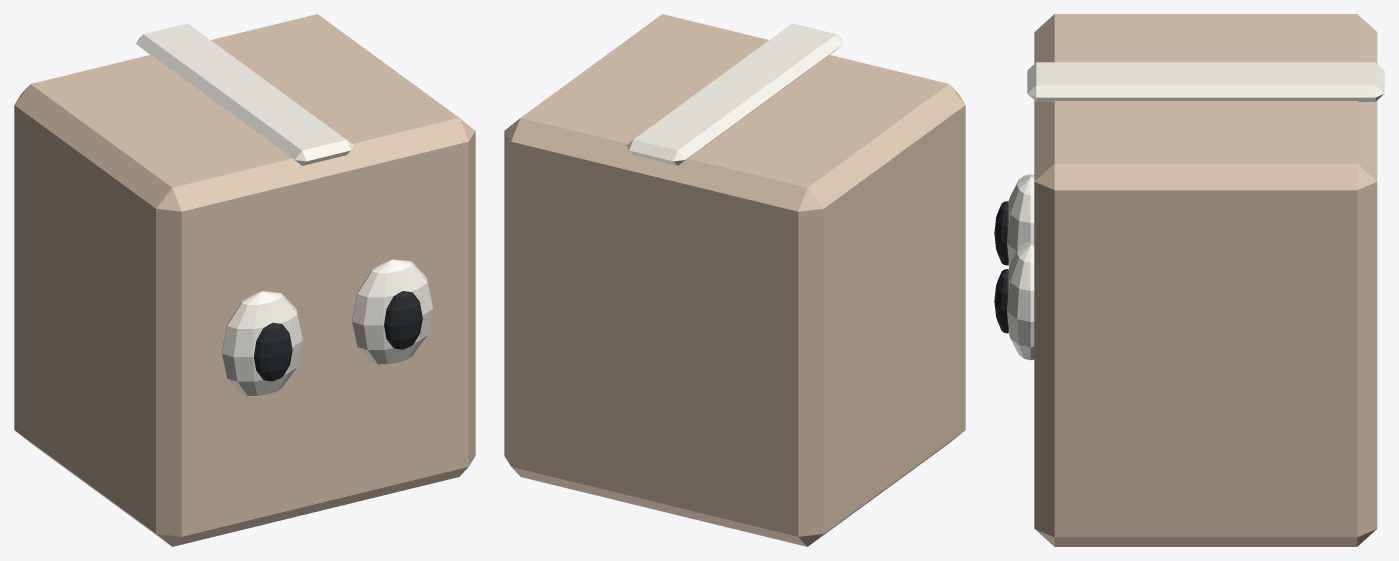
3 renders of one model, left to right at view 1: azimuth 30°, elevation 25°; view 2: azimuth 150°, elevation 25°; view 3: azimuth 270°, elevation 25°, orthographic. The views are drawn at different scales.
Visible parts, largest first — view 1: carton, tape, eye.007, eye.006, pupil.007, pupil.006; view 2: carton, tape; view 3: carton, tape, eye.007, eye.006, pupil.006, pupil.007.
Boxes of the visible parts, x1,y1,x2,y2 form: carton: [14, 14, 475, 546]; tape: [136, 23, 353, 165]; eye.007: [352, 259, 432, 364]; eye.006: [221, 291, 302, 396]; pupil.007: [384, 291, 422, 349]; pupil.006: [254, 322, 292, 381]; carton: [504, 14, 965, 546]; tape: [626, 23, 843, 165]; carton: [1034, 14, 1377, 546]; tape: [1027, 62, 1384, 101]; eye.007: [1007, 242, 1034, 360]; eye.006: [1007, 174, 1034, 266]; pupil.006: [994, 201, 1008, 265]; pupil.007: [994, 269, 1008, 333].
Bounding box in the file's own units: 1.08 × 1.21 × 1.07.
